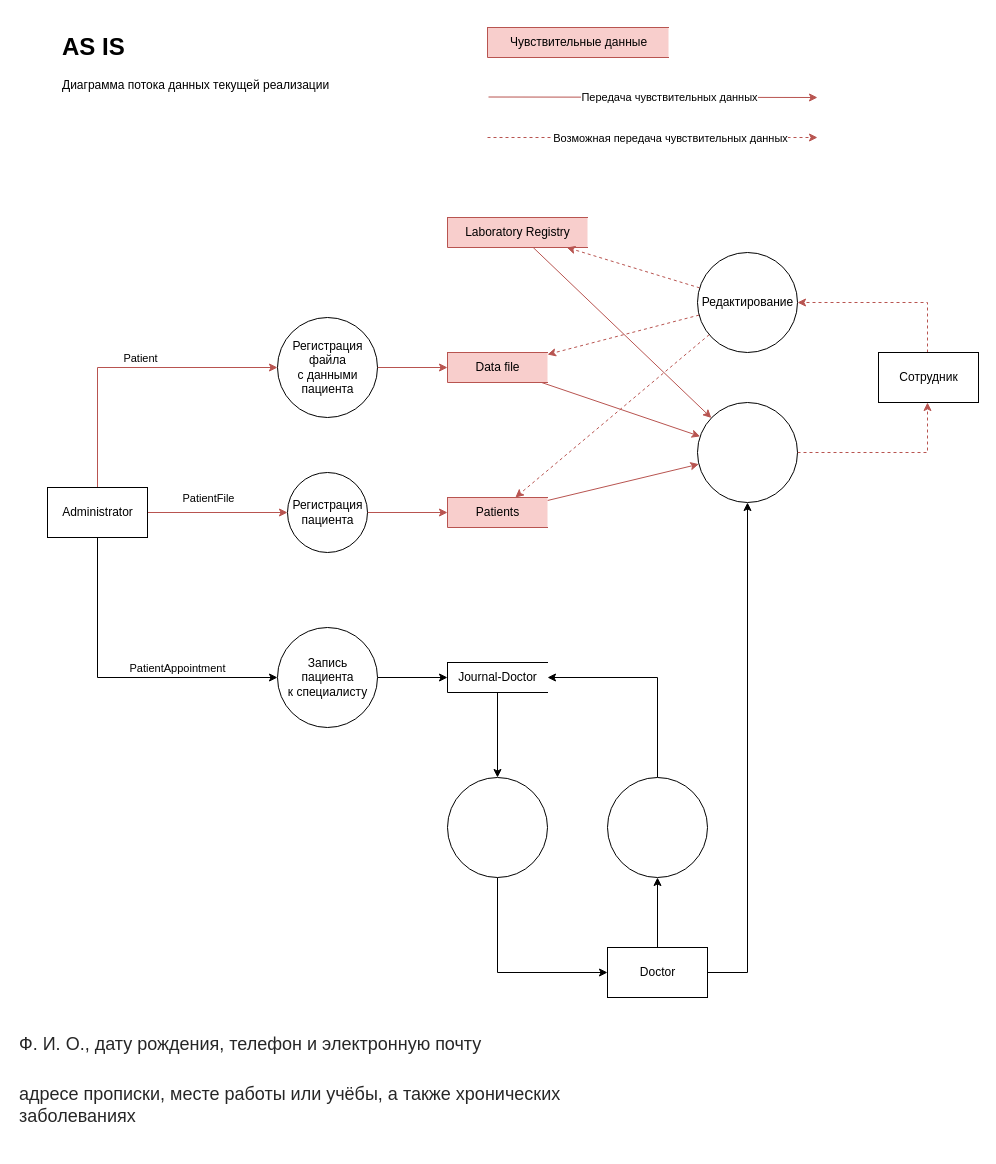
Image size: 996x1164. Some labels were removed from this diagram. The centre of each missing label's shape, as x and y in pixels:
"Просмотр" goes at point (747, 452).
"Просмотр журнала" goes at point (497, 827).
"Редактирование журнала" goes at point (657, 827).
